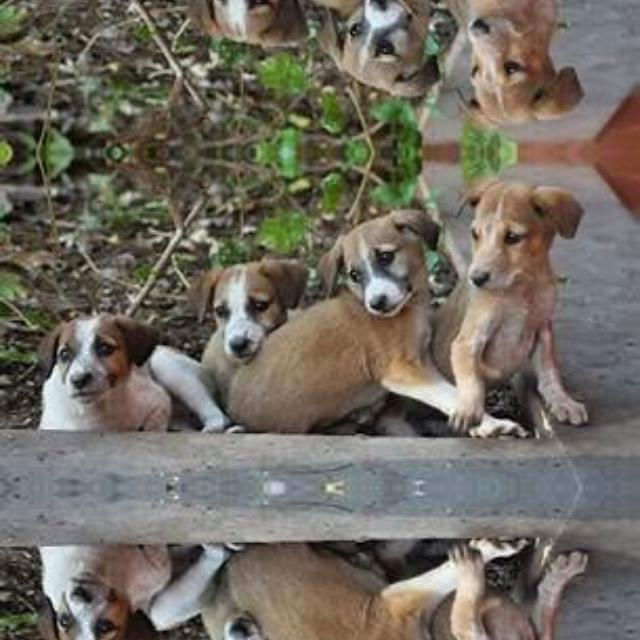dog: (470, 173, 576, 429), (323, 194, 452, 398), (34, 296, 176, 452), (33, 523, 176, 640), (181, 248, 307, 379), (323, 0, 452, 110), (470, 0, 576, 131), (470, 546, 576, 640), (323, 576, 452, 640), (181, 0, 307, 55), (181, 595, 307, 640), (33, 0, 176, 8)
